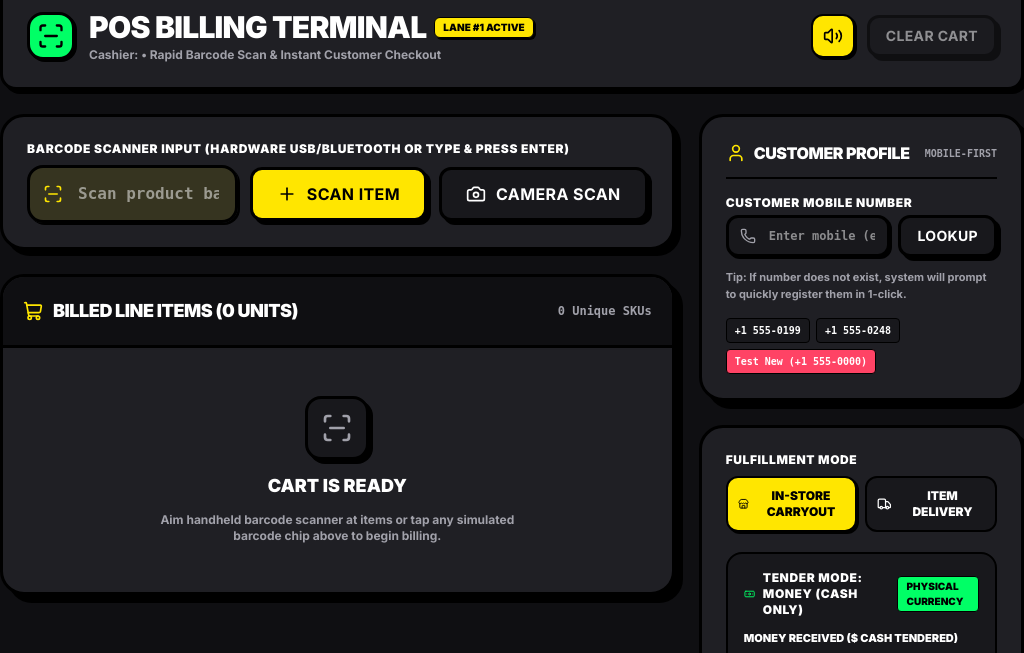
PosBillingPage Component › scans a barcode and adds product to cart with correct subtotal and tax in money mode
Type "8901030010015" into the field with placeholder "Scan product barcode (e.g. 8901030010015) or type SKU...".
click(132, 194); type("8901030010015")  # box [27,165,238,223]
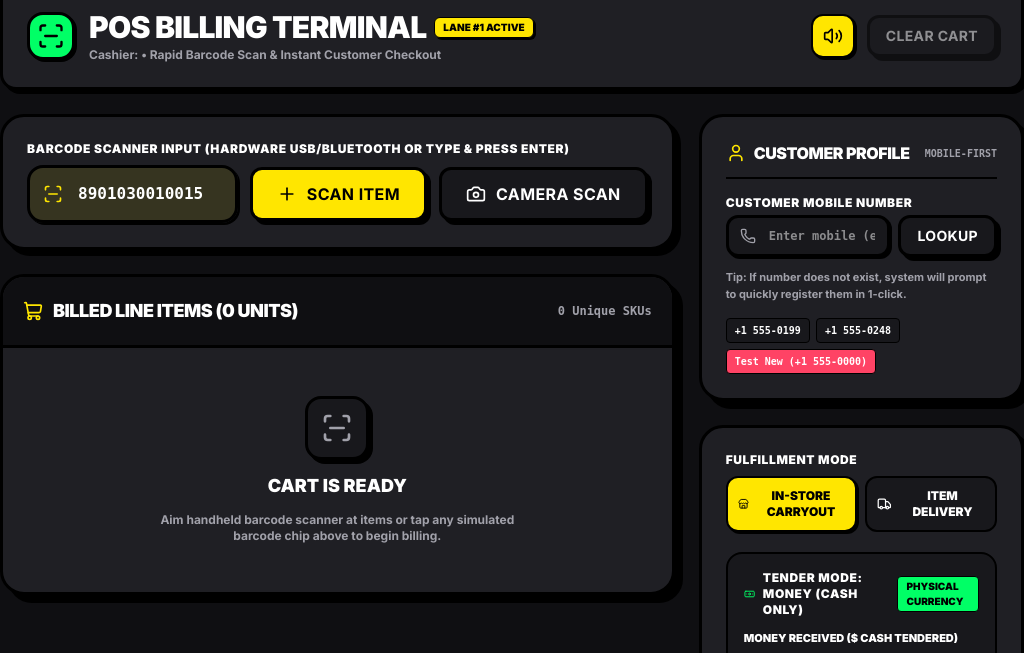
Submit the form with placeholder "scan product barcode", box [27,141,648,223]
(page scrolled)
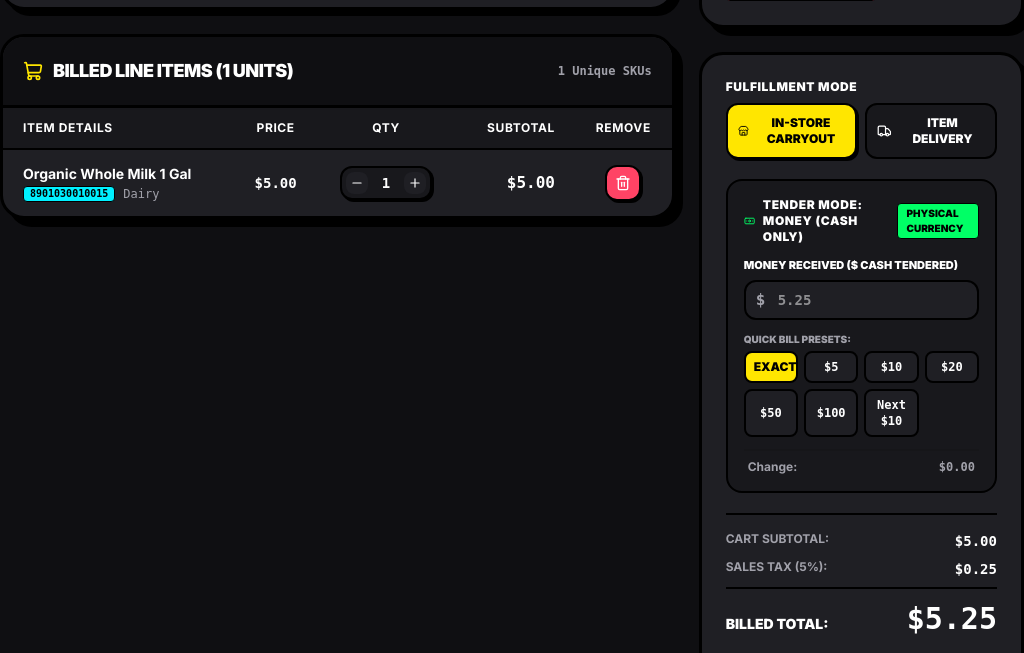
Check: the text "Money Received ($ Cash Tendered)" is shown, box [744,257,979,274]
Check: the text "Organic Whole Milk 1 Gal" is shown, box [23,164,214,184]
Check: the text "$5.25" is shown, box [907,600,997,636]
